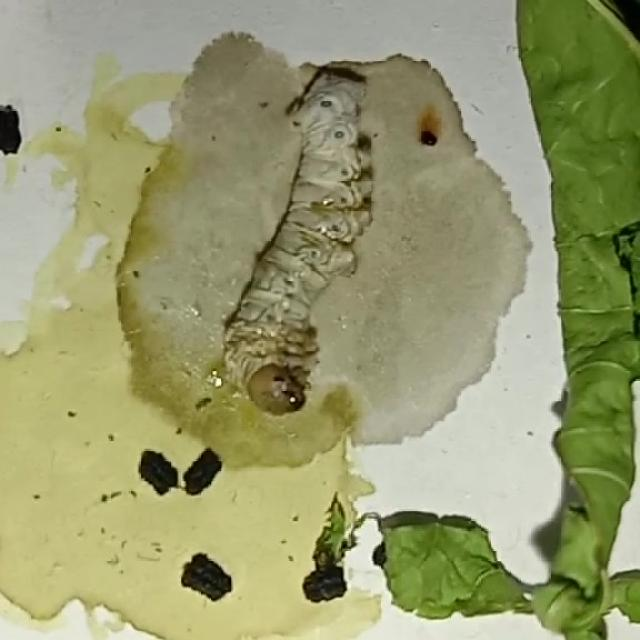Grasserie: (208, 53, 414, 425)
